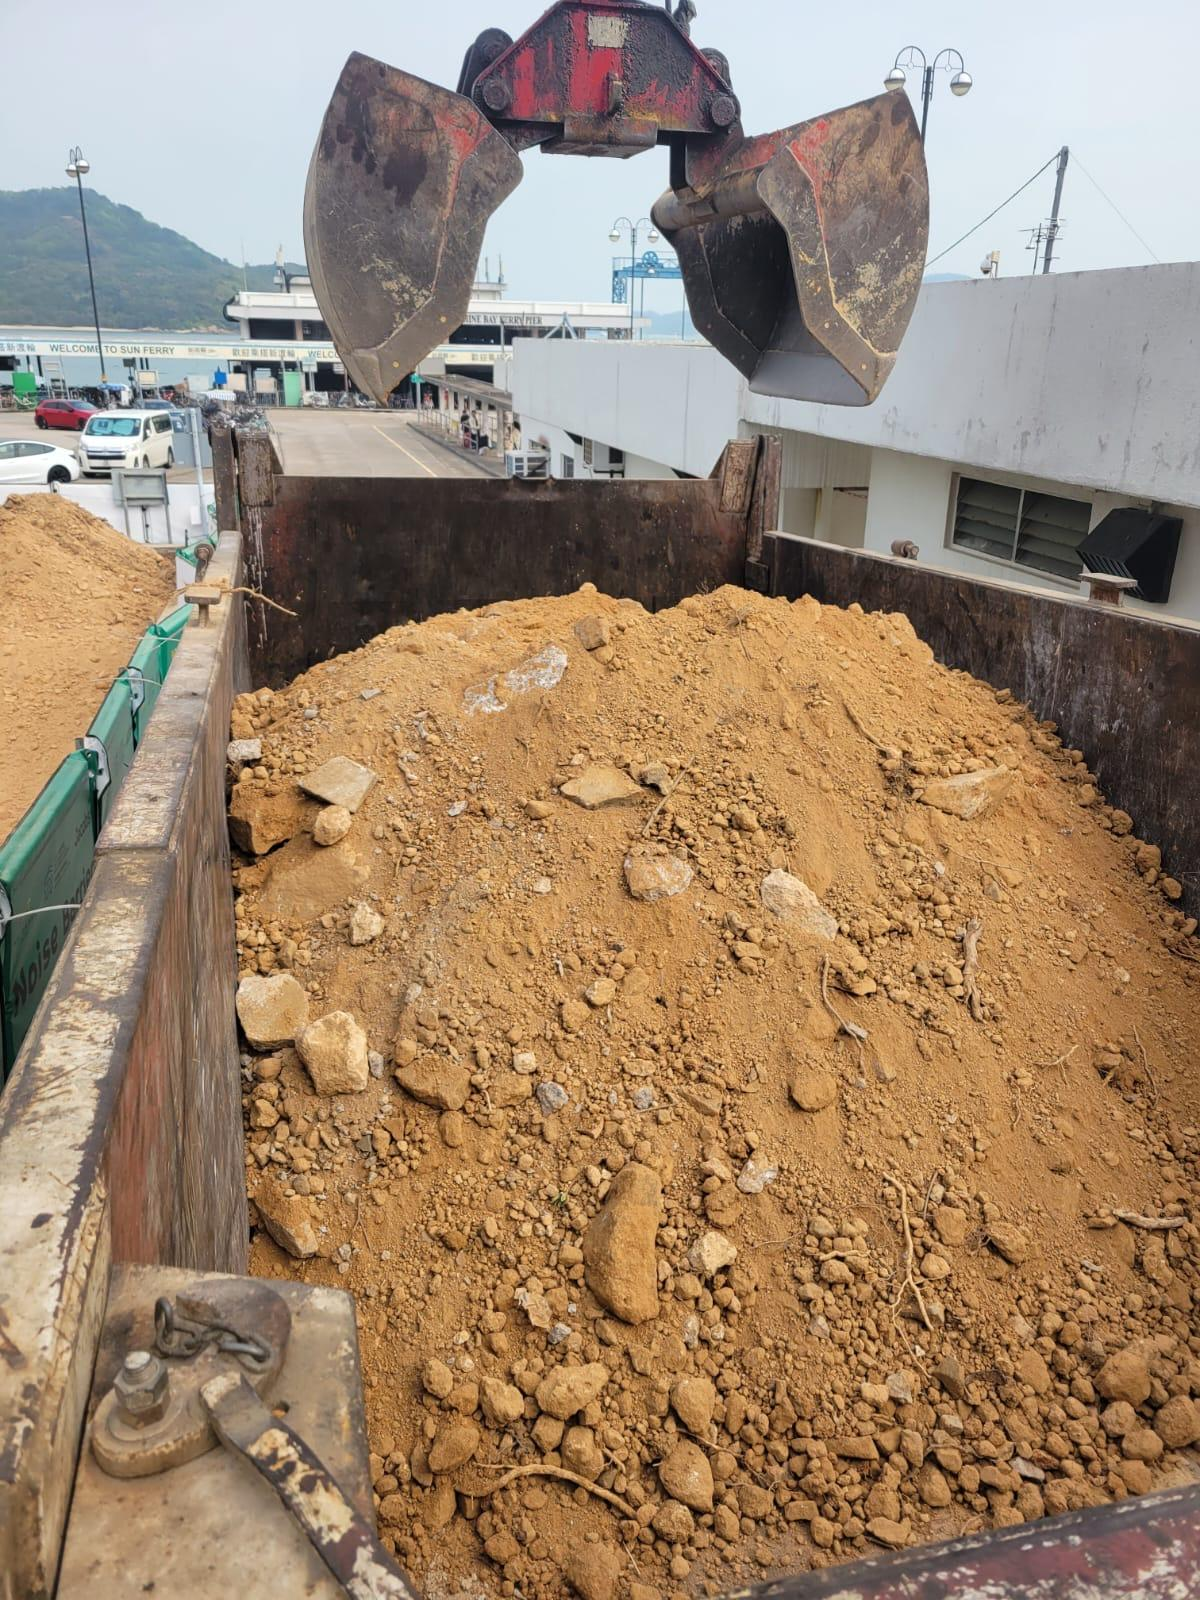dry: (252, 683, 1187, 1518)
